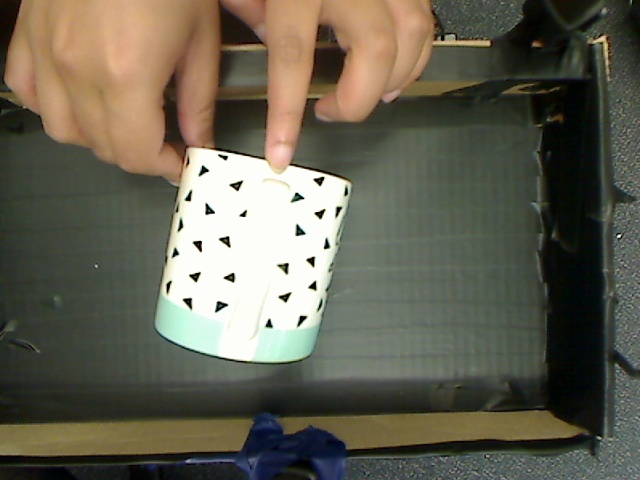mug: (115, 153, 383, 371)
